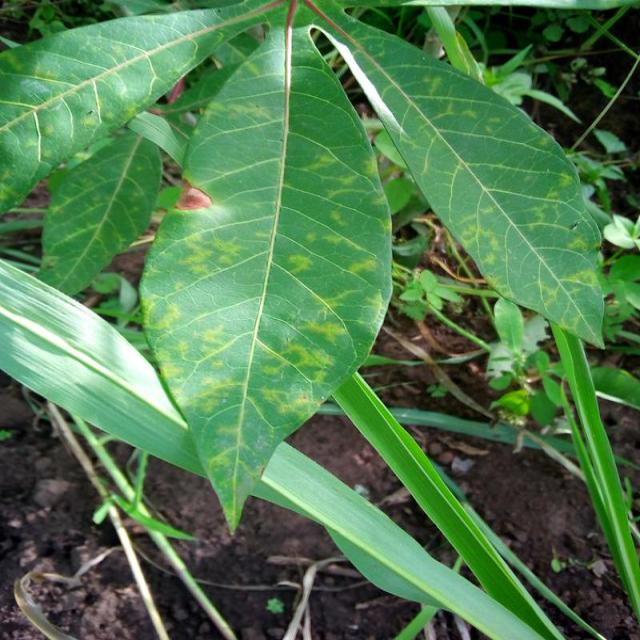cassava leaf: (2, 1, 636, 637), (137, 21, 394, 534), (294, 0, 606, 350)
